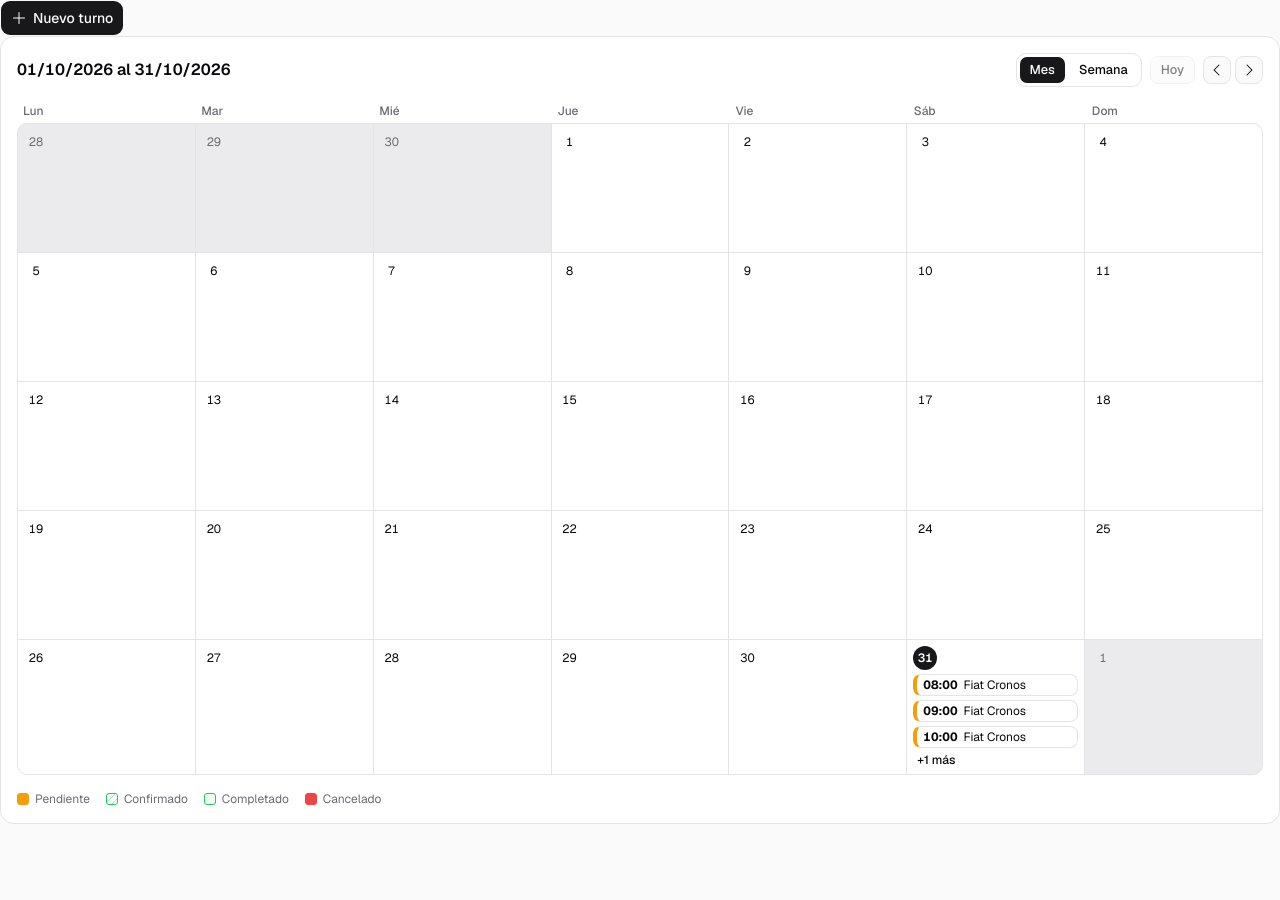
Test: AppointmentsCalendar crowded day › opens the popover again when the modal closes after an action
The width and height of the screenshot is (1280, 900).
Click the button "+1 más": (936, 760) [913,752,960,768]
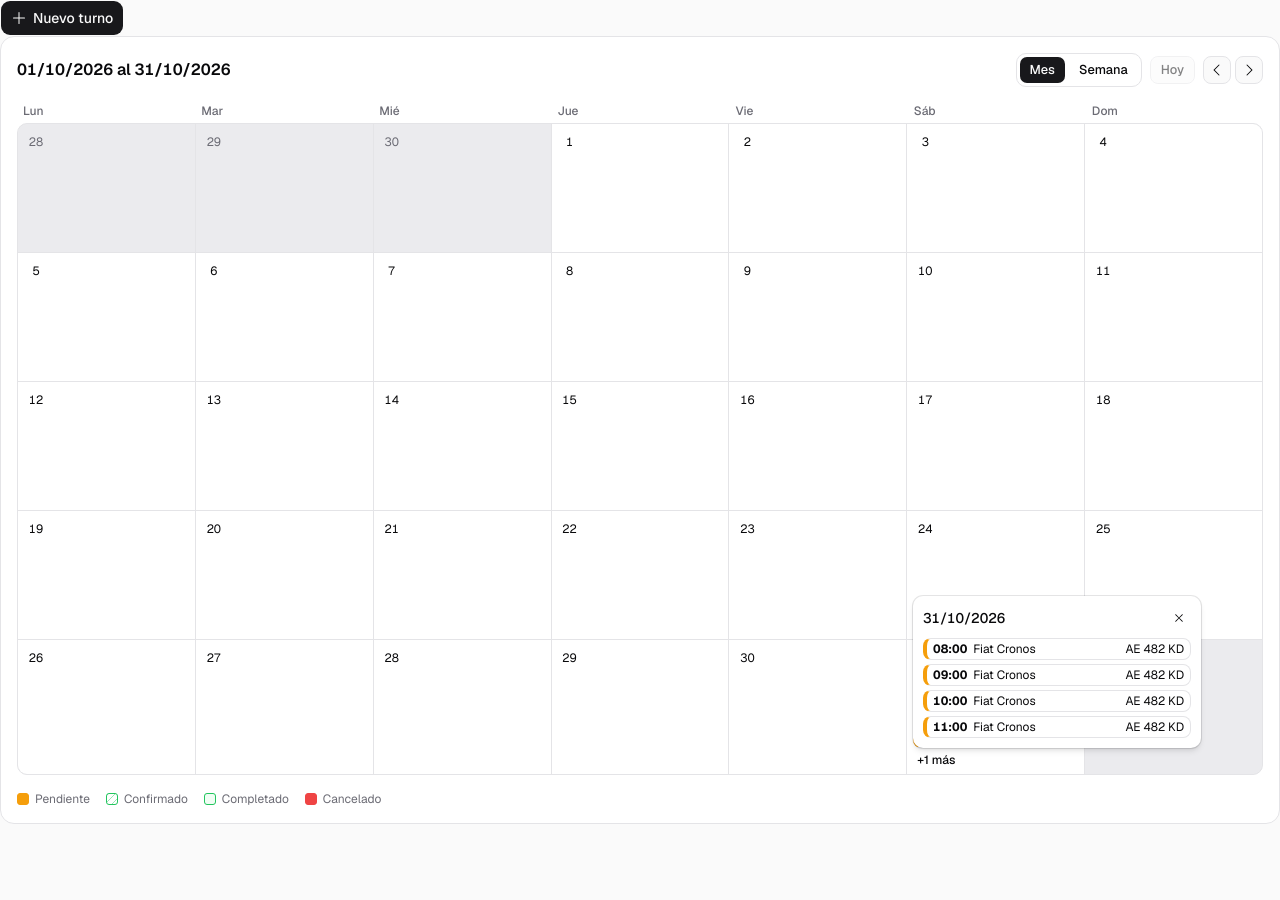
Click the button with aria-label "11:00, Fiat Cronos, AE 482 KD, Pendiente": (950, 727) [923,716,1191,738]
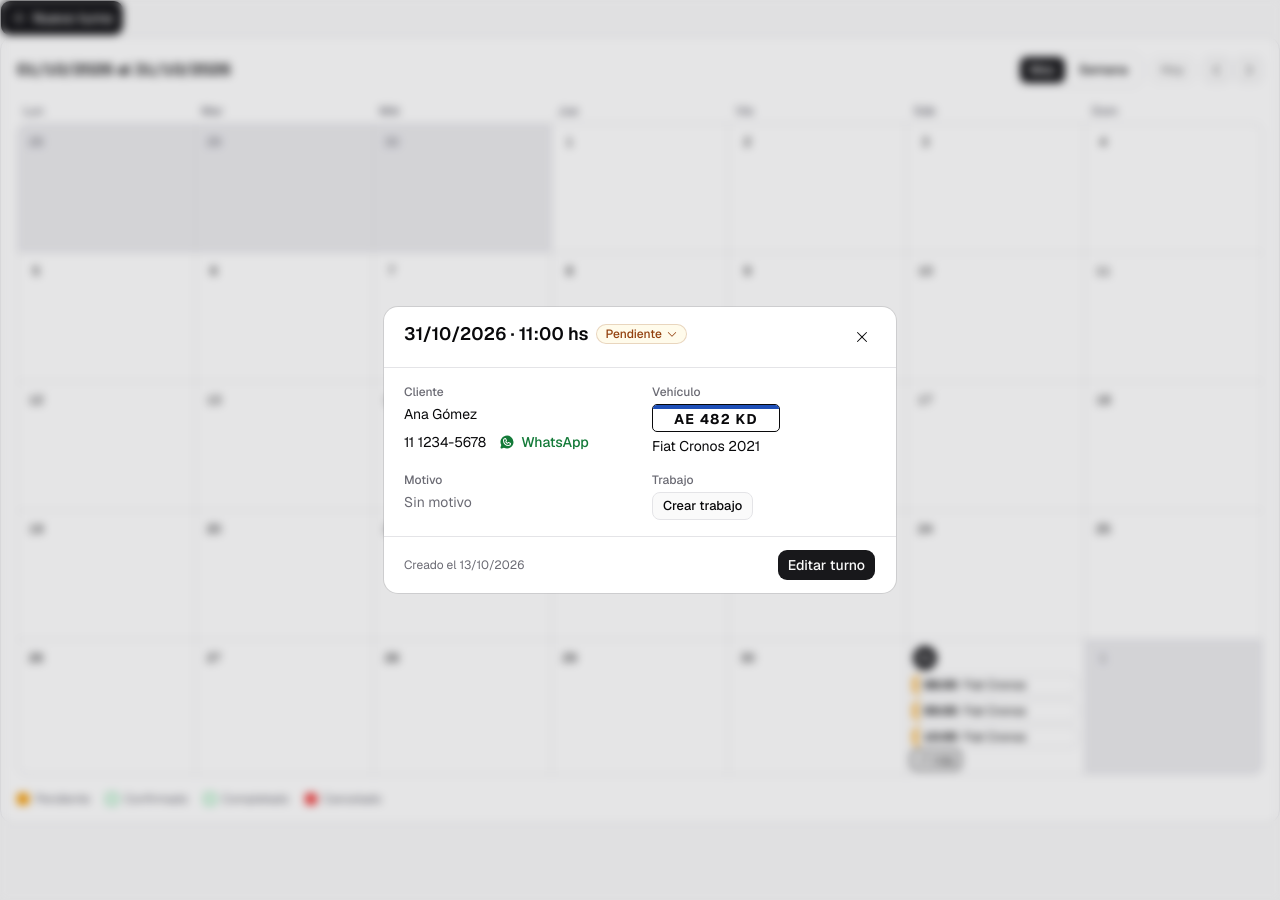
Click the dropdown named "Cambiar estado: Pendiente": (642, 334) [596,324,687,344]
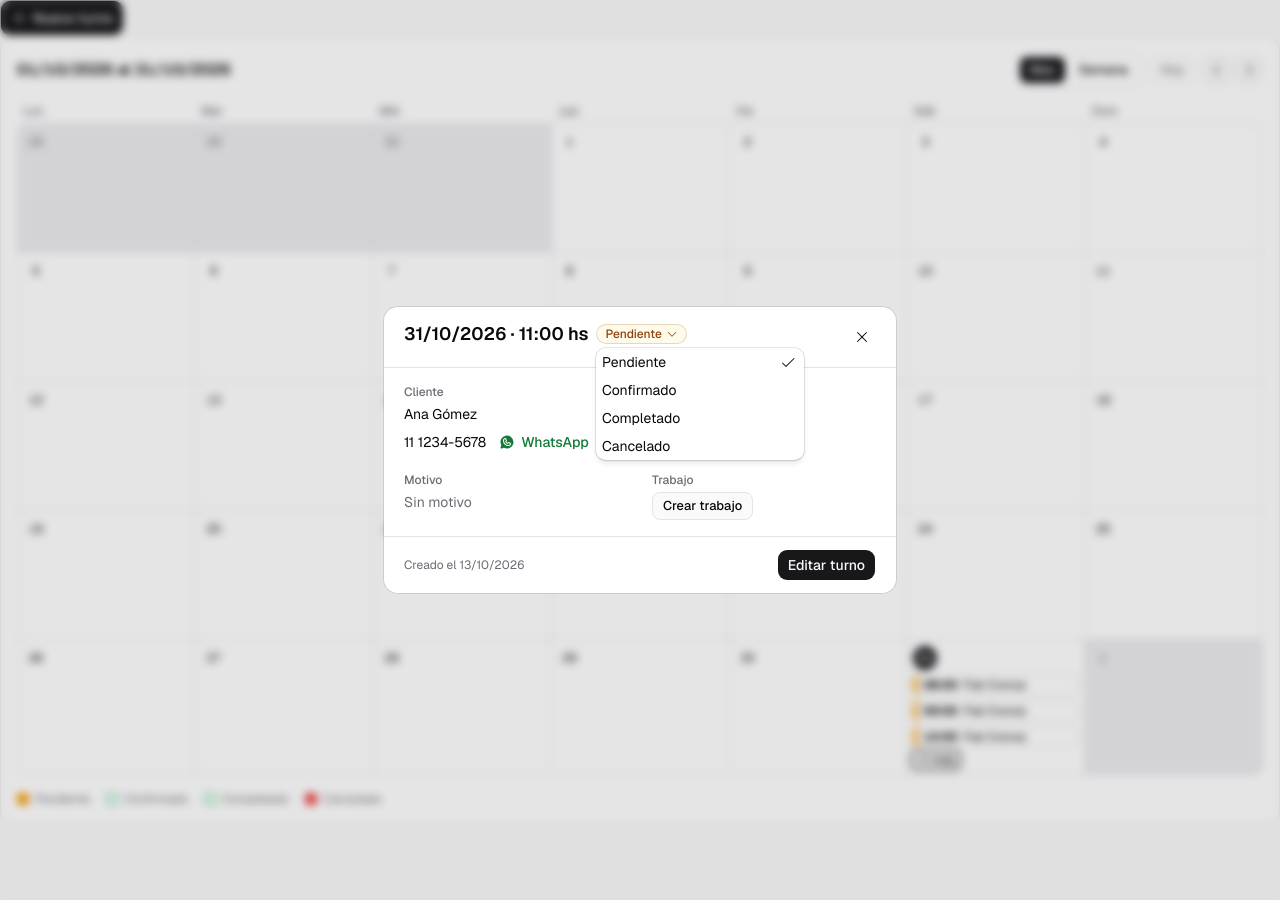
Press the mouse on the option "Confirmado": (639, 390) [602,381,676,399]
Click the option "Confirmado": (639, 390) [602,381,676,399]
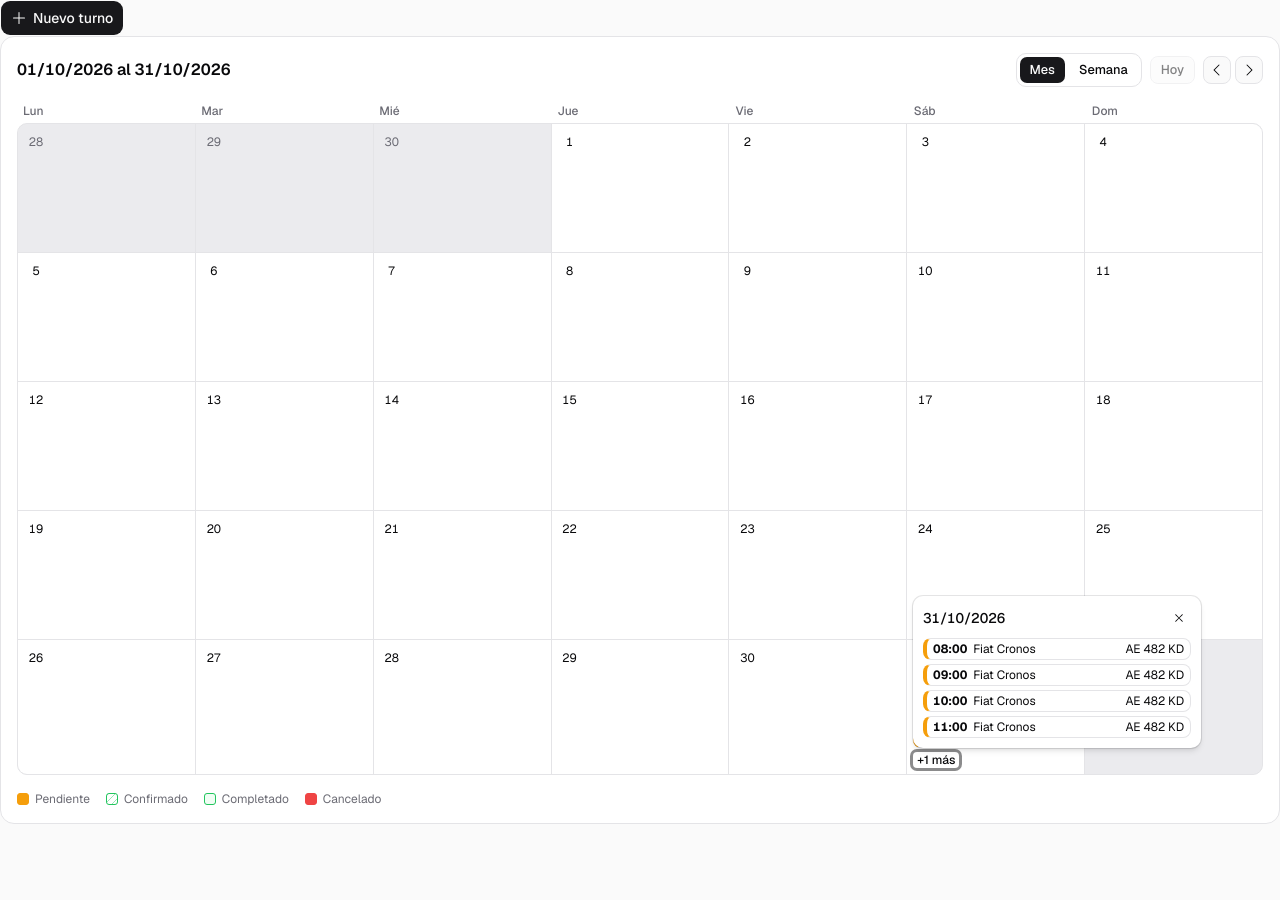
Expected: the heading "· 11:00 hs" is gone
